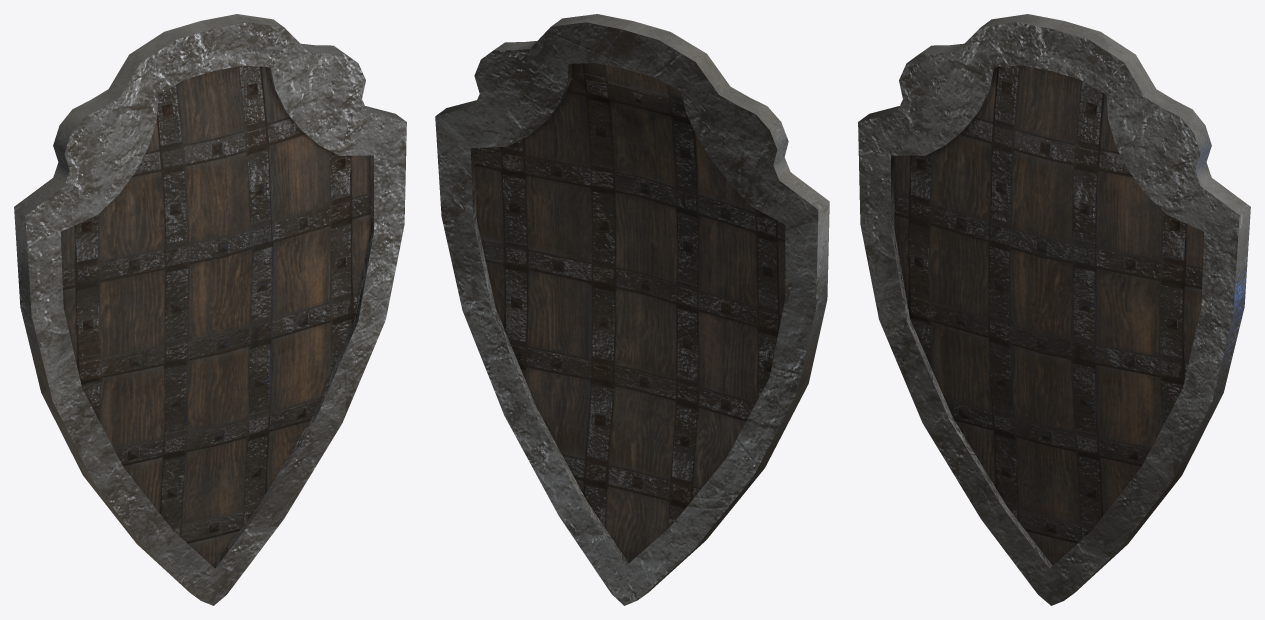
Rendered from Shield.fbx.
3 views of the same model, side by side, from view 1: azimuth 30°, elevation 25°; view 2: azimuth 150°, elevation 25°; view 3: azimuth 330°, elevation 25° (orthographic).
Parts seen in each view (by area): view 1: Shield; view 2: Shield; view 3: Shield.
Boxes of the visible parts, x1,y1,x2,y2 form: Shield: (14, 14, 406, 605); Shield: (435, 14, 829, 605); Shield: (858, 14, 1250, 605).
Size of the model in its own units: 45.28 by 65.24 by 4.79.
